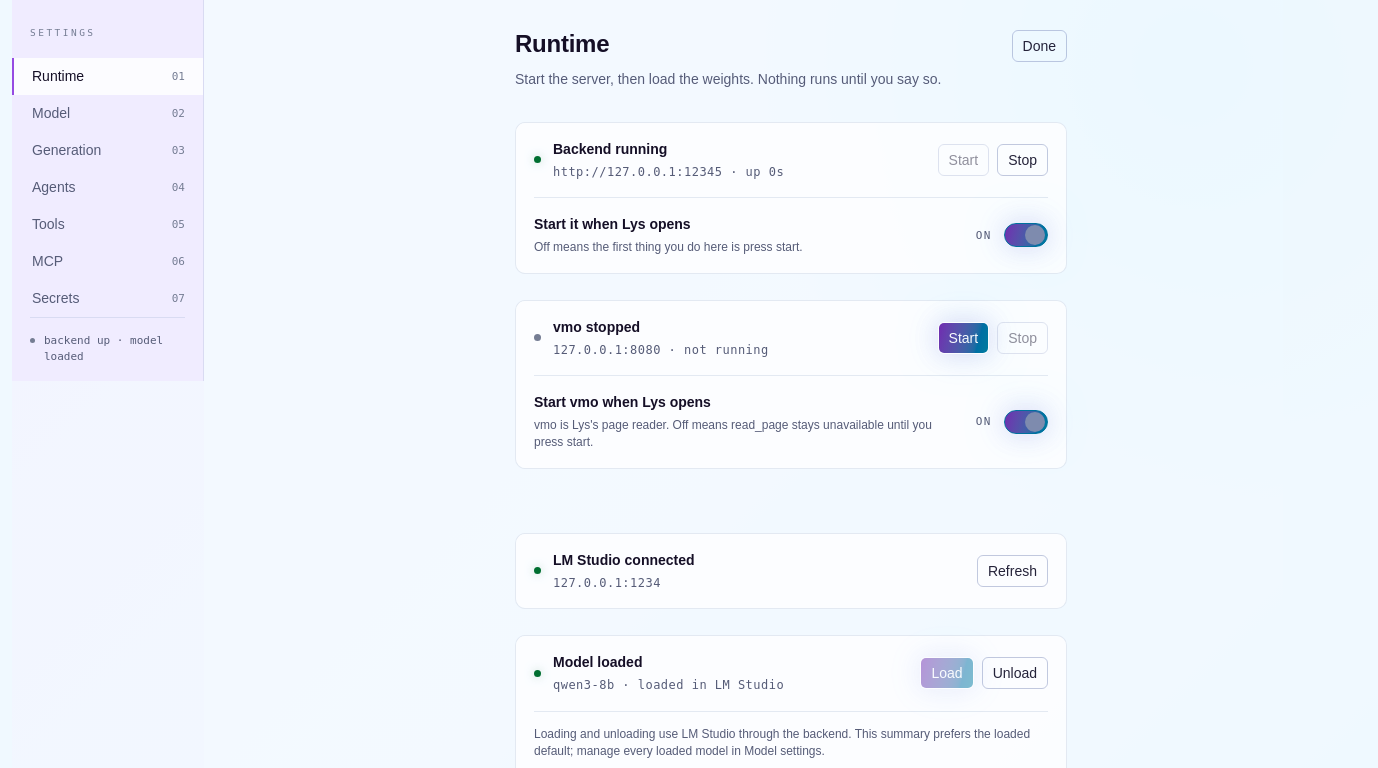
Test: RuntimePaneContent › vmo › starts a stopped vmo and stops it again
Expected: the switch named "Start it when Lys opens" is shown, [1004,223,1048,247]
What coordinates should you click on to do the following:
click the button with aria-label "Start vmo"
I would click on:
 (963, 338)
Its box is [938,322,989,354].
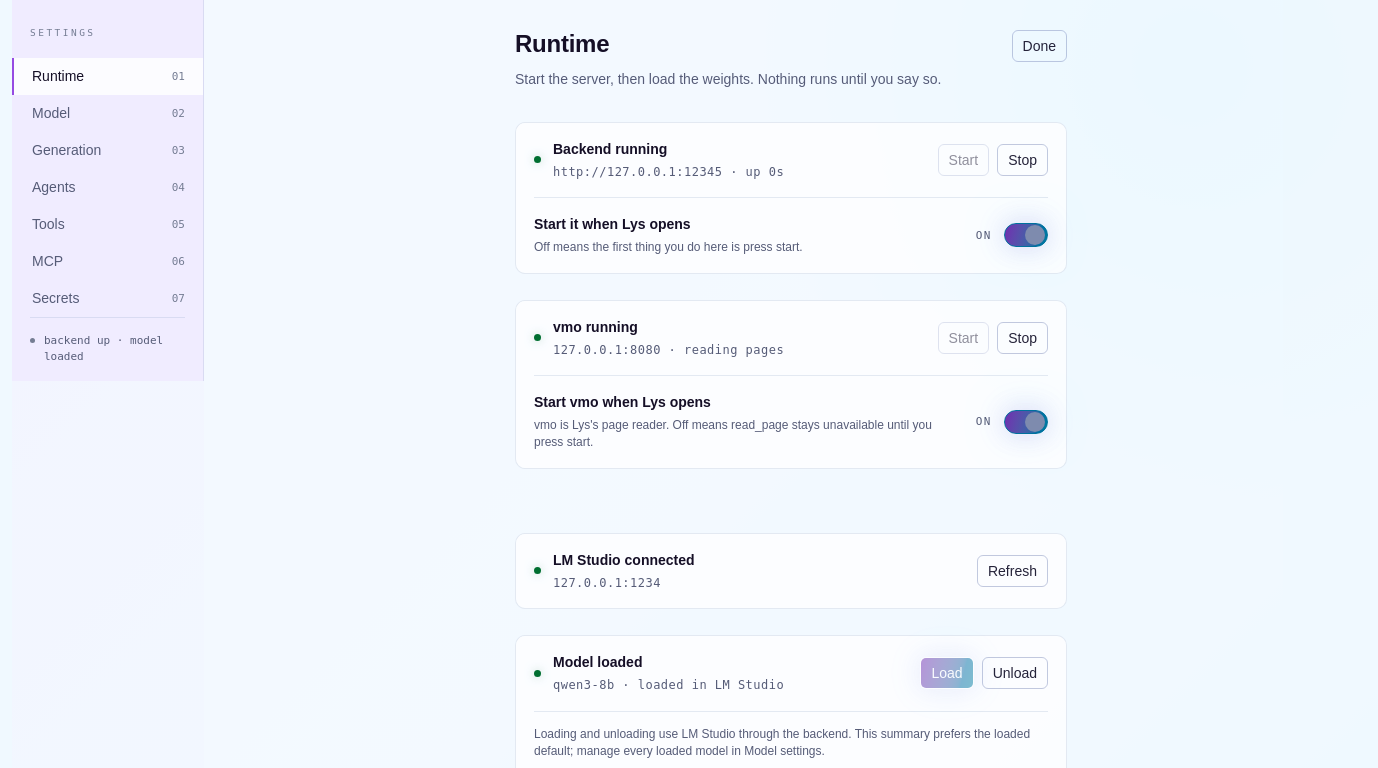
What coordinates should you click on to do the following:
click the button with aria-label "Stop vmo"
I would click on:
 (1023, 338)
Its box is [997,322,1048,354].
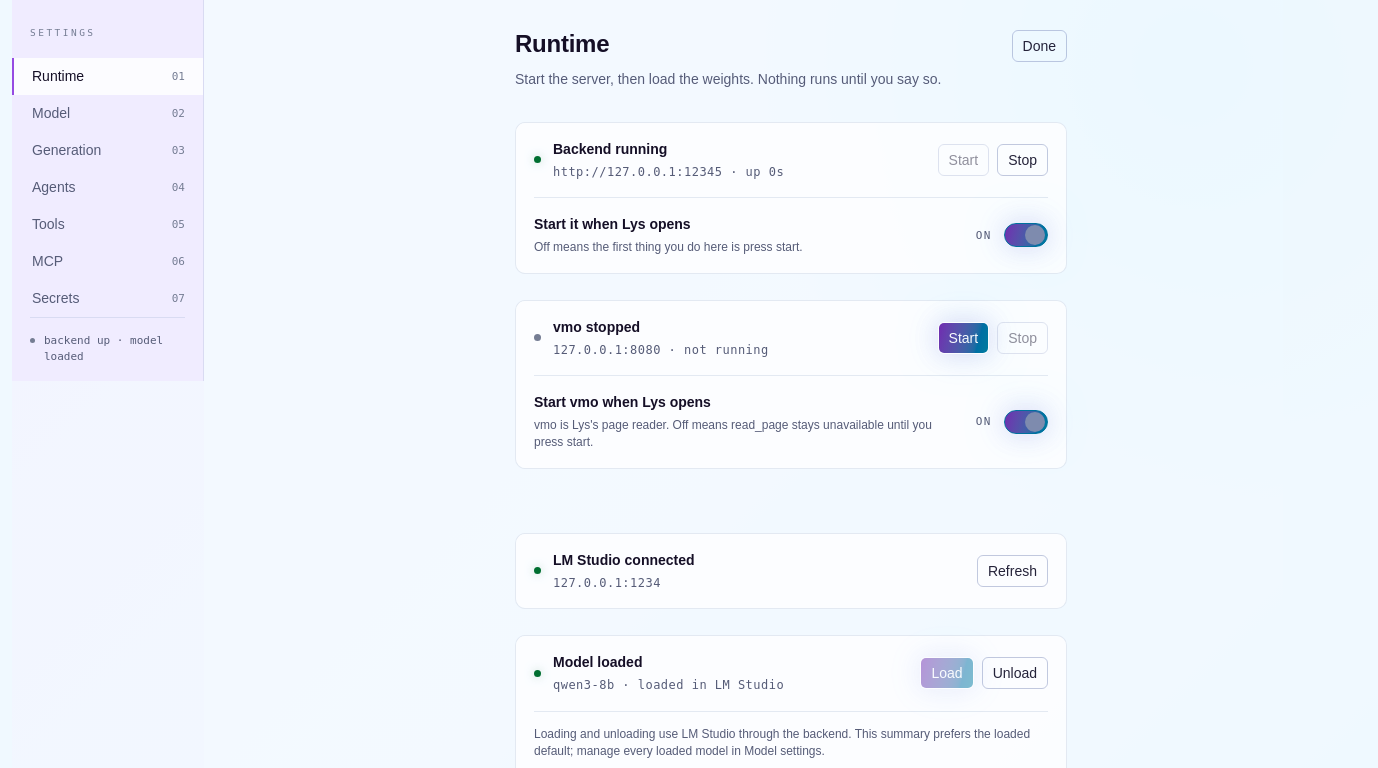
Now the heading "vmo stopped" is shown, box [553,319,640,335]
